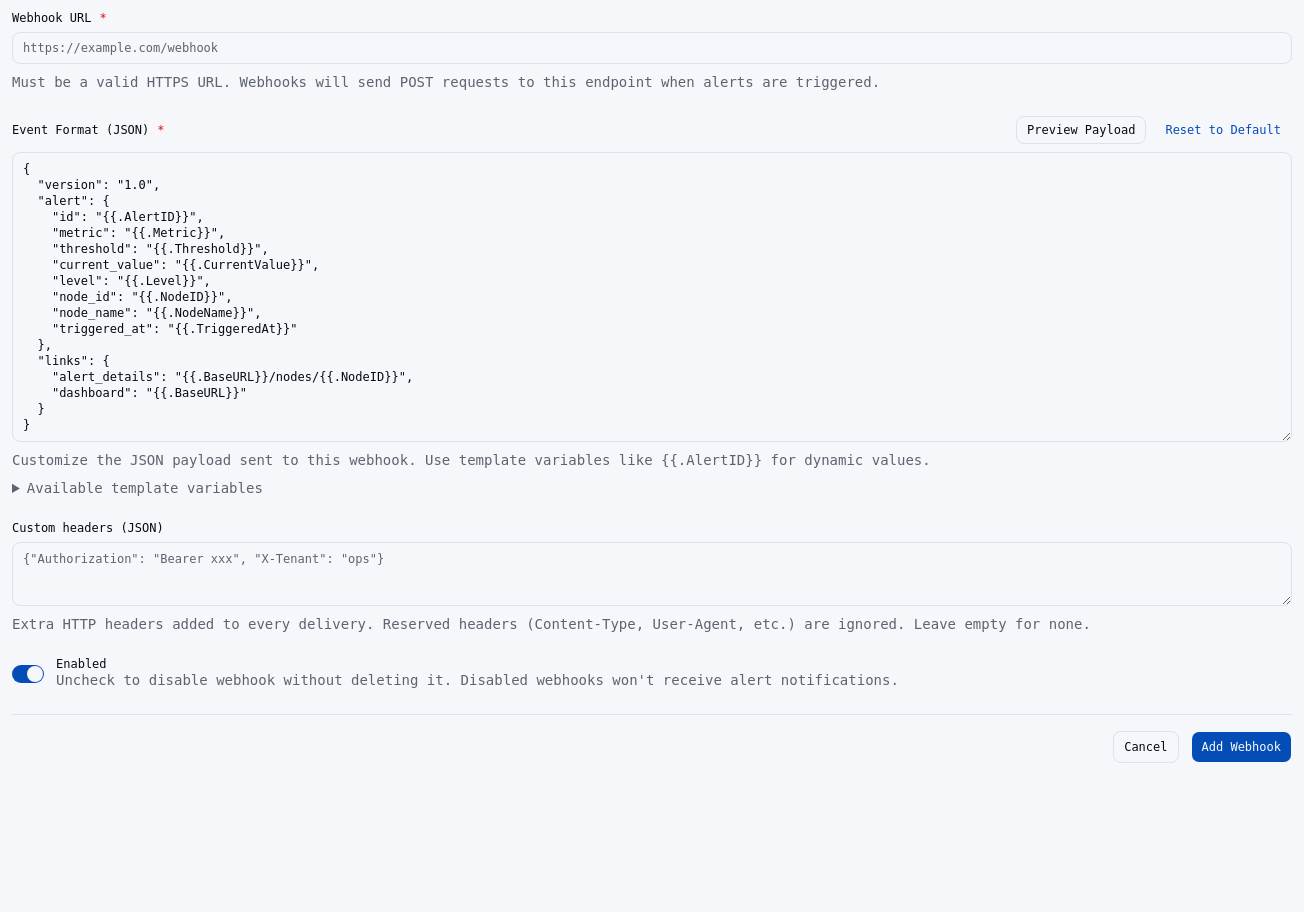
Test: WebhookForm › previews rendered payload with current event format
Step 1. Click the button "Preview Payload" → (1081, 130), box [1016,116,1146,144]
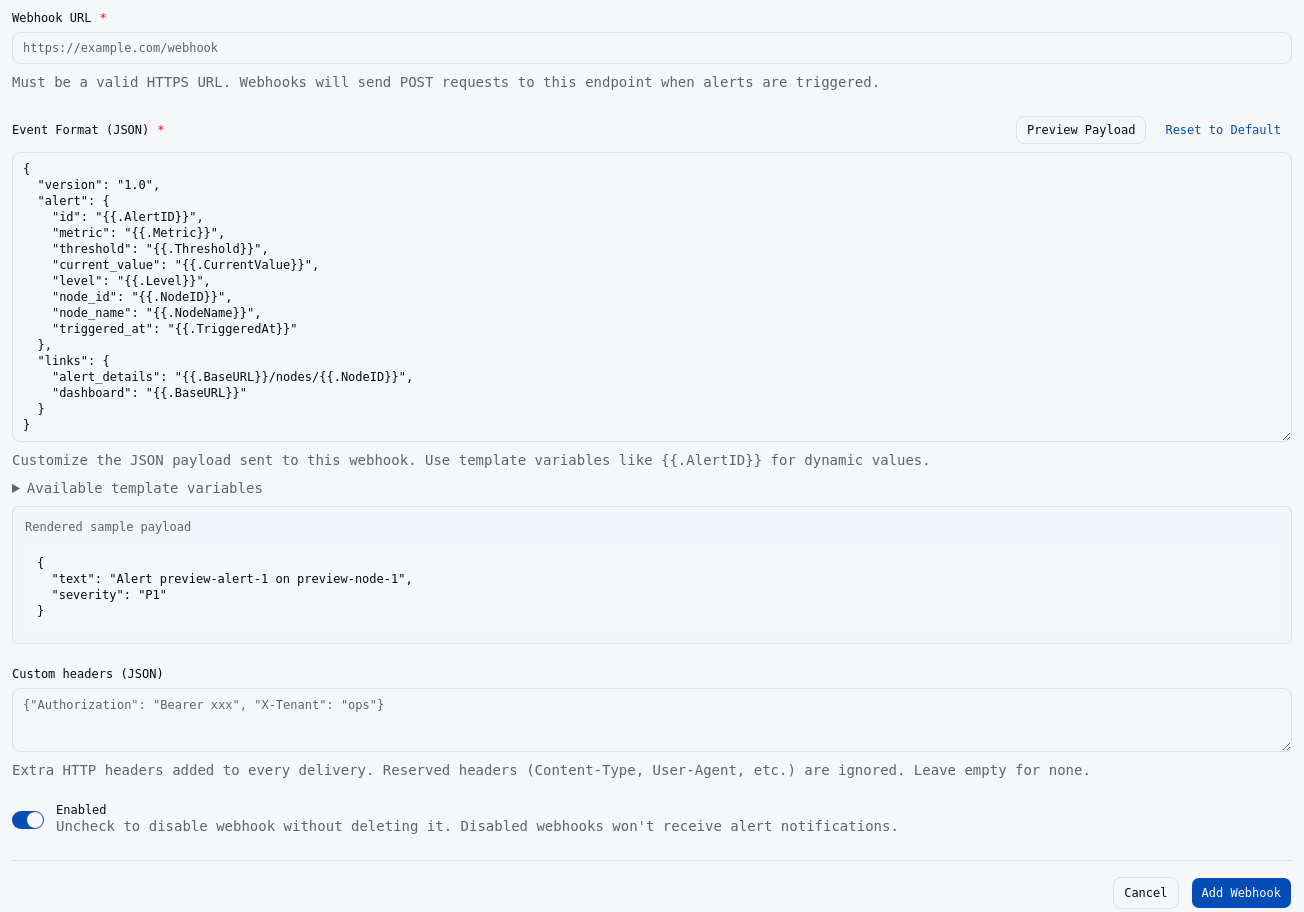
Check: the text "Rendered sample payload" is shown, box [25,520,191,534]
Check: the text "preview-alert-1" is shown, box [37,556,413,618]
